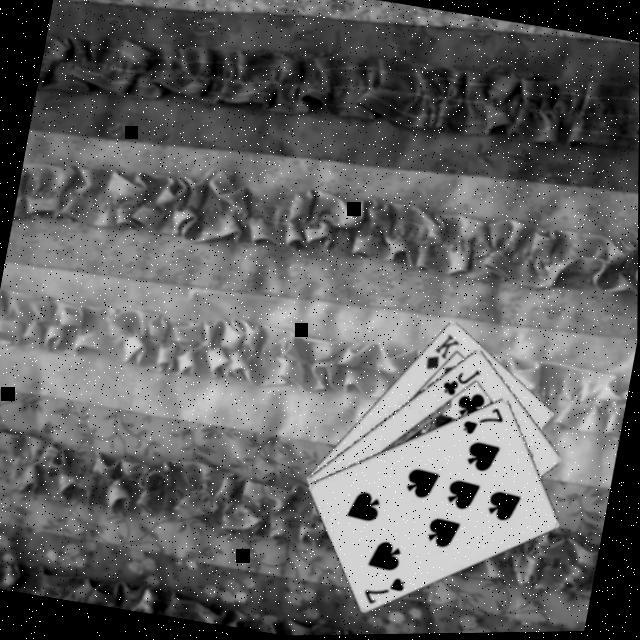7S: (455, 401, 506, 447), (357, 570, 407, 615)
JC: (436, 363, 482, 406)
KD: (419, 330, 462, 380)
